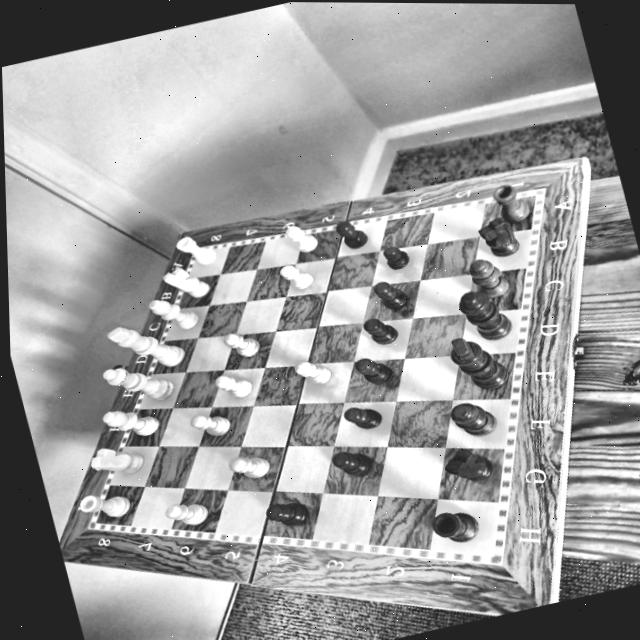black-bishop: (444, 392, 502, 445), (463, 248, 516, 303)
black-king: (441, 326, 515, 398)
black-knight: (437, 438, 500, 494), (472, 207, 526, 263)
black-pawn: (327, 441, 382, 487), (259, 493, 314, 533), (356, 309, 404, 353), (339, 395, 390, 435), (351, 350, 400, 389), (367, 272, 411, 312), (332, 215, 372, 254), (377, 239, 416, 275)
black-queen: (450, 280, 517, 347)
black-rook: (425, 500, 488, 553), (487, 176, 535, 225)
white-bishop: (99, 399, 165, 445), (144, 289, 200, 337)
white-king: (101, 310, 187, 379)
white-knight: (86, 436, 148, 484), (160, 259, 212, 305)
white-pawn: (159, 493, 213, 533), (225, 447, 276, 488), (276, 217, 325, 259), (274, 257, 320, 298), (291, 353, 338, 393), (187, 405, 235, 443), (221, 323, 266, 363), (211, 365, 256, 404)
white-queen: (97, 353, 177, 413)
white-rook: (75, 482, 137, 528), (171, 227, 219, 271)
